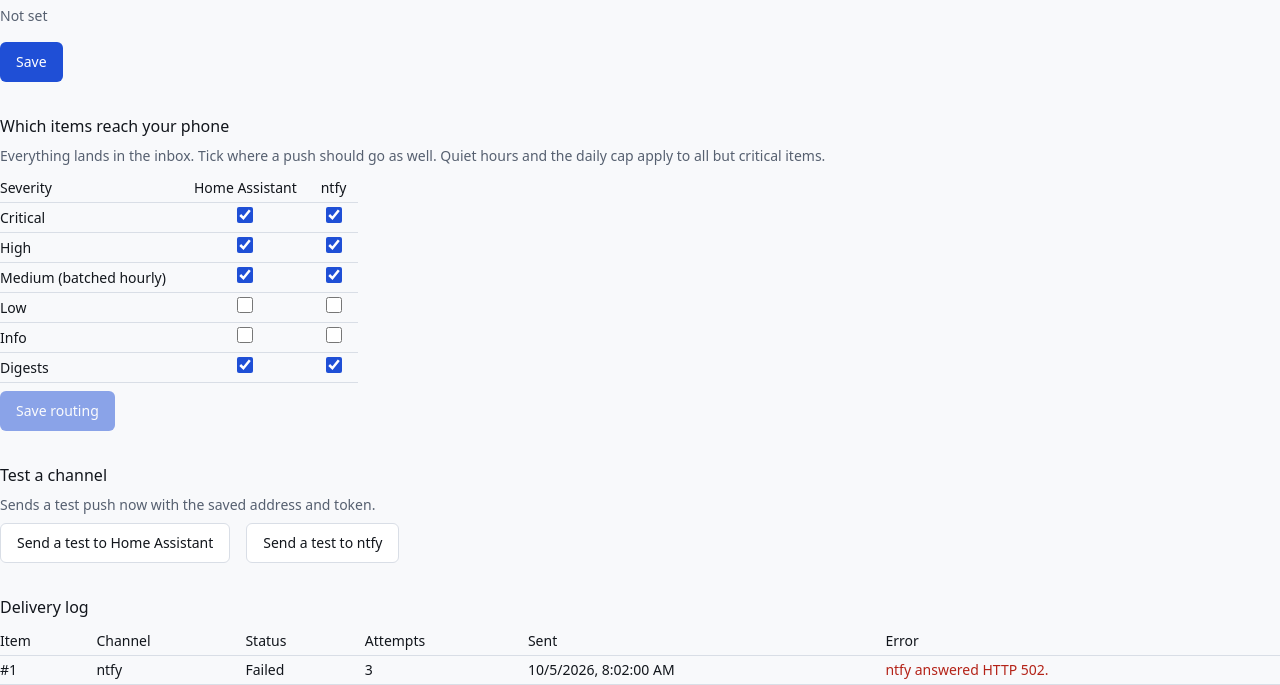
Test: notification settings (FR-NT-02, FR-NT-03, FR-NT-08) › sends a test and shows the channel error, and lists failed deliveries
(page scrolled)
Step 1. Click the button "Send a test to Home Assistant" → (115, 543), box top-left (0, 523), bottom-right (230, 563)
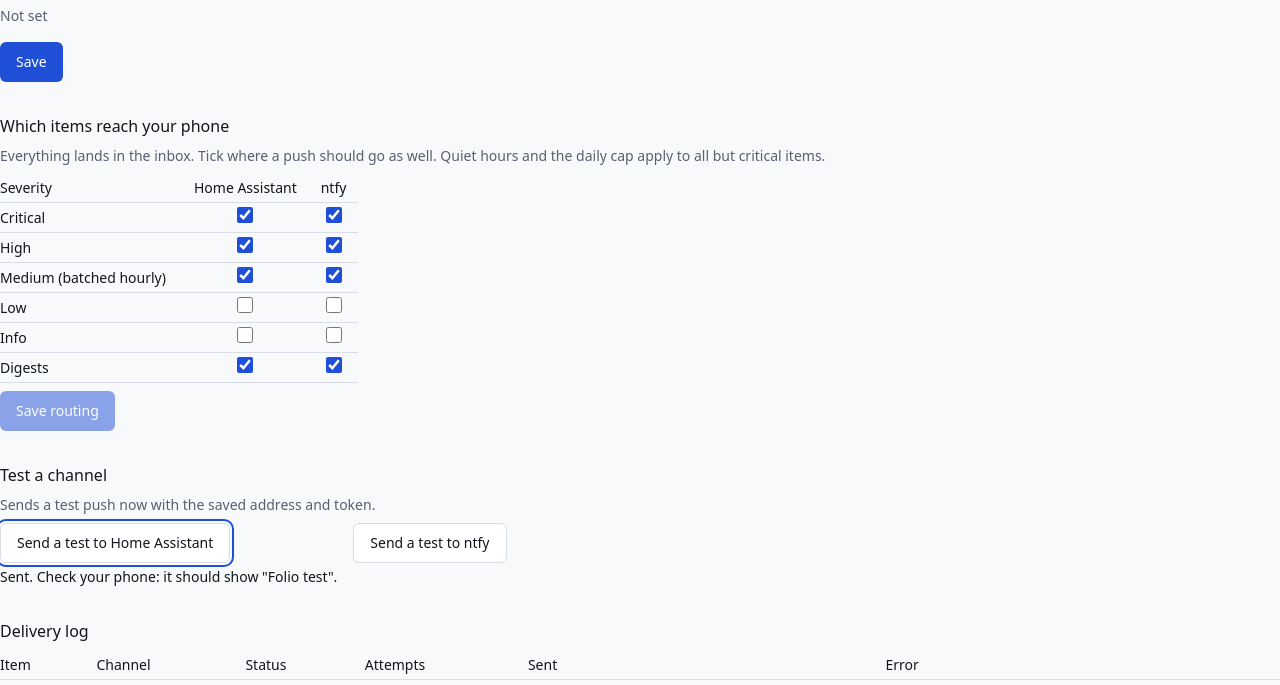
Now the text "Sent. Check your phone: it should show \"Folio test\"." is shown, box top-left (0, 567), bottom-right (337, 587)
Step 2. Click the button "Send a test to ntfy" → (430, 543), box top-left (353, 523), bottom-right (506, 563)
(page scrolled)
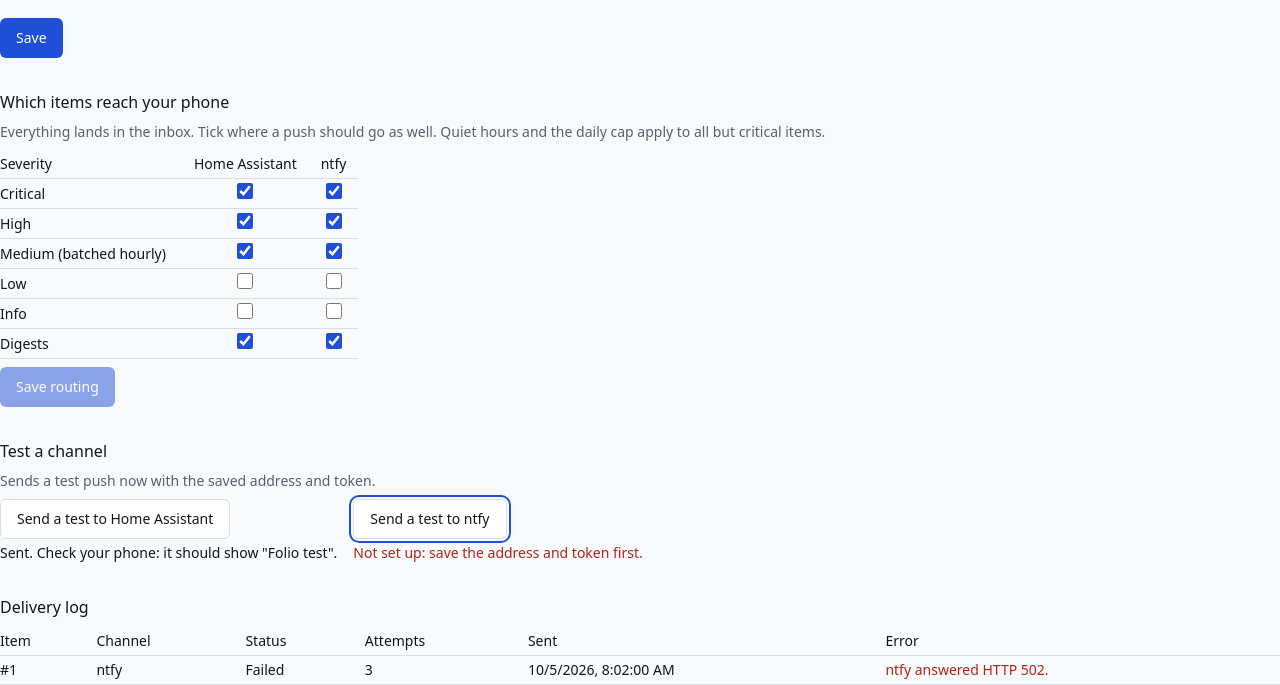
Expected: the table named "Delivery log" shows "Failed", top-left (245, 660), bottom-right (284, 679)
Now the text "Not set up: save the address and token first." is shown, box top-left (353, 543), bottom-right (643, 563)
